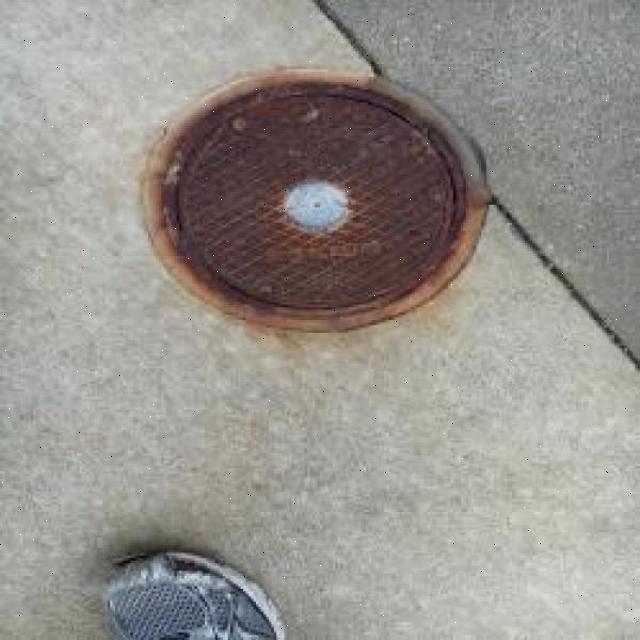corrosion: (139, 65, 492, 333)
crack: (311, 0, 639, 375)
